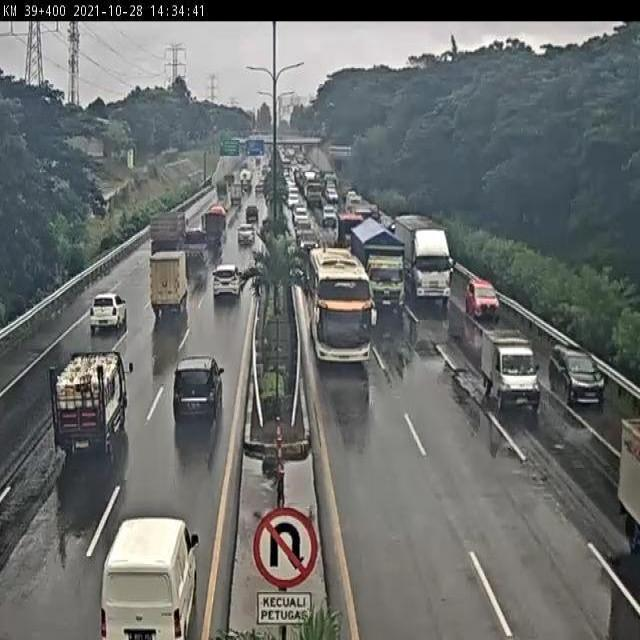big bus: (306, 250, 382, 374)
big truck: (367, 219, 415, 317), (409, 219, 455, 313), (145, 199, 190, 260)
car: (96, 513, 205, 640), (479, 321, 543, 424), (543, 337, 607, 412), (201, 254, 248, 326), (464, 273, 505, 327)
small truck: (27, 342, 144, 498), (607, 400, 640, 565), (135, 237, 194, 323)
